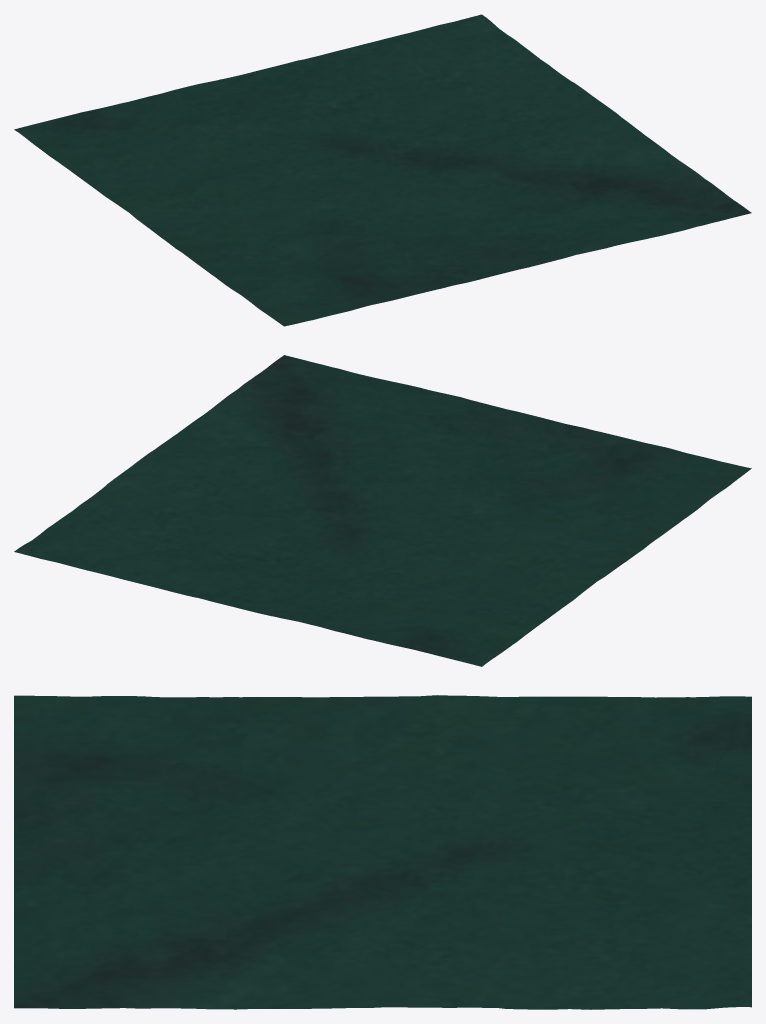
3 views of the same model, one above another, from view 1: azimuth 30°, elevation 25°; view 2: azimuth 150°, elevation 25°; view 3: azimuth 270°, elevation 25° (orthographic). The views are drawn at different scales.
Bounding box in the file's own units: 104 × 0.6758 × 104.
2 materials, 2 textured.
